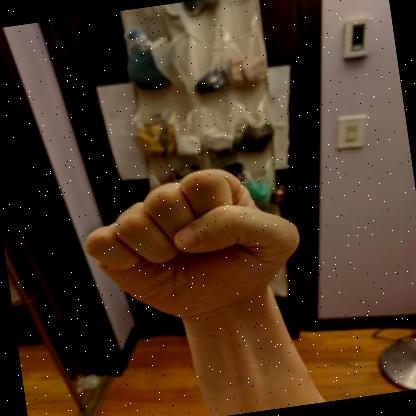S: (84, 168, 299, 321)
